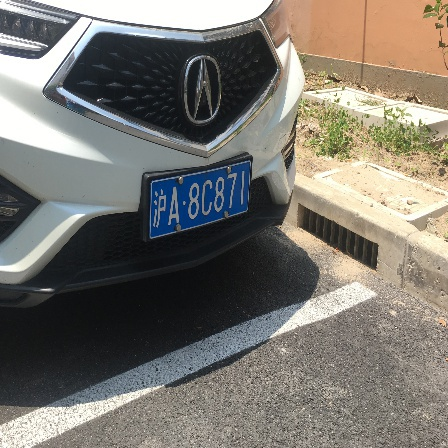plate: (141, 167, 258, 227)
